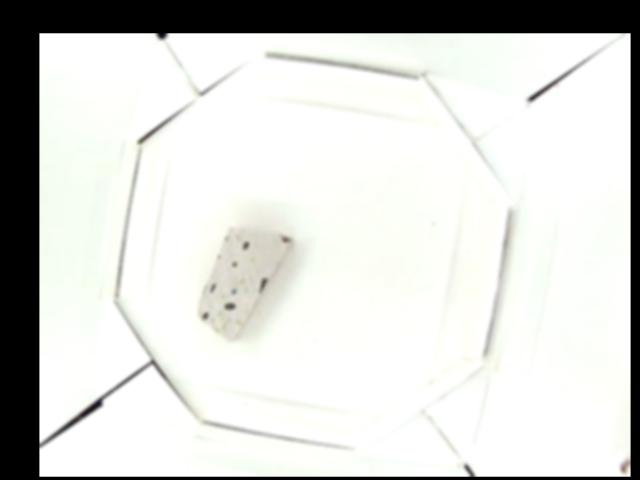China: (198, 226, 294, 339)
